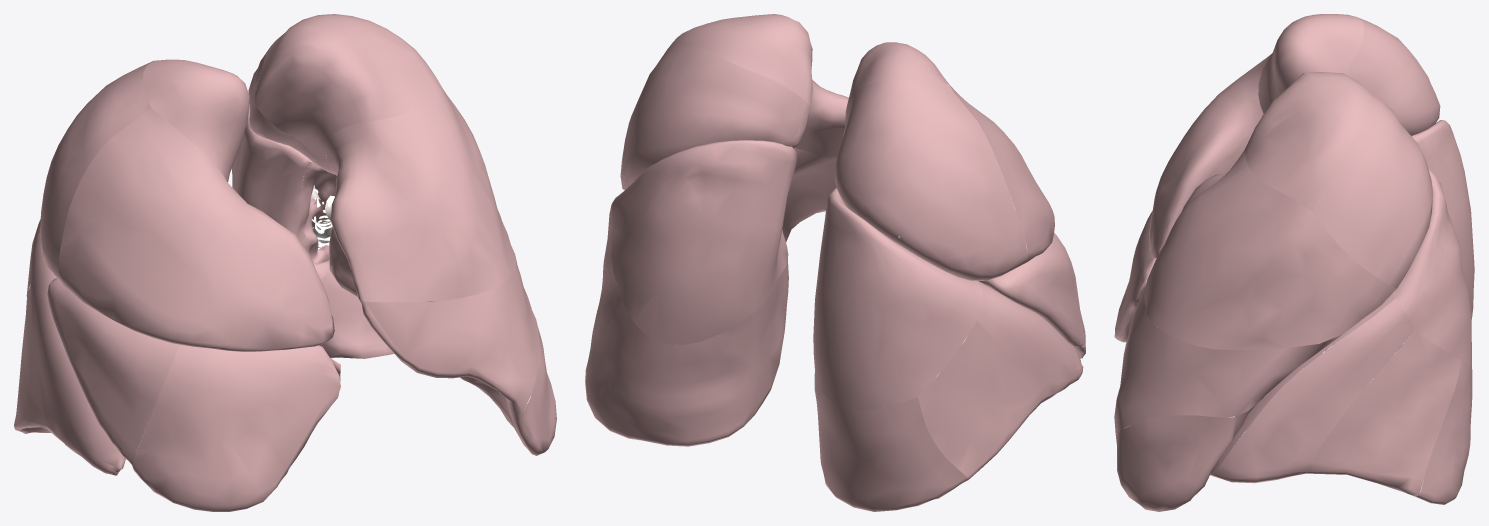
The model's file is hra-lung.lite.glb.
3 views of the same model, side by side, from view 1: azimuth 30°, elevation 25°; view 2: azimuth 150°, elevation 25°; view 3: azimuth 270°, elevation 25° (orthographic). The views are drawn at different scales.
Visible parts, largest first — view 1: VH_M_right_anterior_bronchopulmonary_segment, VH_M_left_anterior_bronchopulmonary_segment, VH_M_right_medial_bronchopulmonary_segment, VH_M_left_apical_bronchopulmonary_segment, VH_M_left_lingula_superior_bronchopulmonary_segment, VH_M_right_lateral_bronchopulmonary_segment, VH_M_right_apical_bronchopulmonary_segment, VH_M_right_posterior_bronchopulmonary_segment, VH_M_right_anterior_basal_bronchopulmonary_segment, VH_M_left_superior_bronchopulmonary_segment, VH_M_left_lingula_inferior_bronchopulmonary_segment, VH_M_left_medial_basal_bronchopulmonary_segment (+5 smaller); view 2: VH_M_left_superior_bronchopulmonary_segment, VH_M_right_posterior_bronchopulmonary_segment, VH_M_right_superior_bronchopulmonary_segment, VH_M_left_posetrior_basal_bronchopulmonary_segment, VH_M_left_posterior_bronchopulmonary_segment, VH_M_right_posterior_basal_bronchopulmonary_segment, VH_M_right_lateral_basal_bronchopulmonary_segment, VH_M_left_apical_bronchopulmonary_segment, VH_M_right_anterior_basal_bronchopulmonary_segment, VH_M_right_lateral_bronchopulmonary_segment, VH_M_right_anterior_bronchopulmonary_segment, VH_M_left_lingula_superior_bronchopulmonary_segment (+3 smaller); view 3: VH_M_left_anterior_bronchopulmonary_segment, VH_M_left_lateral_basal_bronchopulmonary_segment, VH_M_left_posterior_bronchopulmonary_segment, VH_M_left_anterior_basal_bronchopulmonary_segment, VH_M_left_lingula_superior_bronchopulmonary_segment, VH_M_left_apical_bronchopulmonary_segment, VH_M_left_lingula_inferior_bronchopulmonary_segment, VH_M_right_anterior_bronchopulmonary_segment, VH_M_left_superior_bronchopulmonary_segment, VH_M_right_apical_bronchopulmonary_segment, VH_M_right_posterior_bronchopulmonary_segment, VH_M_left_posetrior_basal_bronchopulmonary_segment (+3 smaller).
Part boxes in pixels (x1=…): VH_M_right_anterior_bronchopulmonary_segment: x1=59, y1=108, x2=334, y2=351; VH_M_left_anterior_bronchopulmonary_segment: x1=325, y1=89, x2=516, y2=302; VH_M_right_medial_bronchopulmonary_segment: x1=132, y1=344, x2=340, y2=511; VH_M_left_apical_bronchopulmonary_segment: x1=254, y1=14, x2=442, y2=162; VH_M_left_lingula_superior_bronchopulmonary_segment: x1=359, y1=256, x2=538, y2=413; VH_M_right_lateral_bronchopulmonary_segment: x1=47, y1=278, x2=179, y2=465; VH_M_right_apical_bronchopulmonary_segment: x1=143, y1=59, x2=249, y2=182; VH_M_right_posterior_bronchopulmonary_segment: x1=40, y1=61, x2=152, y2=284; VH_M_right_anterior_basal_bronchopulmonary_segment: x1=31, y1=269, x2=125, y2=475; VH_M_left_superior_bronchopulmonary_segment: x1=232, y1=104, x2=326, y2=237; VH_M_left_lingula_inferior_bronchopulmonary_segment: x1=329, y1=245, x2=556, y2=455; VH_M_left_medial_basal_bronchopulmonary_segment: x1=319, y1=271, x2=393, y2=358; VH_M_left_superior_bronchopulmonary_segment: x1=611, y1=140, x2=797, y2=344; VH_M_right_posterior_bronchopulmonary_segment: x1=834, y1=80, x2=1028, y2=280; VH_M_right_superior_bronchopulmonary_segment: x1=813, y1=187, x2=982, y2=410; VH_M_left_posetrior_basal_bronchopulmonary_segment: x1=585, y1=262, x2=788, y2=446; VH_M_left_posterior_bronchopulmonary_segment: x1=622, y1=41, x2=810, y2=186; VH_M_right_posterior_basal_bronchopulmonary_segment: x1=814, y1=371, x2=968, y2=511; VH_M_right_lateral_basal_bronchopulmonary_segment: x1=918, y1=321, x2=1040, y2=479; VH_M_left_apical_bronchopulmonary_segment: x1=668, y1=14, x2=812, y2=106; VH_M_right_anterior_basal_bronchopulmonary_segment: x1=976, y1=280, x2=1083, y2=402; VH_M_right_lateral_bronchopulmonary_segment: x1=978, y1=218, x2=1084, y2=348; VH_M_right_anterior_bronchopulmonary_segment: x1=949, y1=84, x2=1054, y2=261; VH_M_left_lingula_superior_bronchopulmonary_segment: x1=623, y1=148, x2=836, y2=239; VH_M_left_anterior_bronchopulmonary_segment: x1=1144, y1=149, x2=1396, y2=349; VH_M_left_lateral_basal_bronchopulmonary_segment: x1=1306, y1=328, x2=1460, y2=496; VH_M_left_posterior_bronchopulmonary_segment: x1=1313, y1=102, x2=1432, y2=288; VH_M_left_anterior_basal_bronchopulmonary_segment: x1=1210, y1=298, x2=1415, y2=483; VH_M_left_lingula_superior_bronchopulmonary_segment: x1=1114, y1=283, x2=1391, y2=434; VH_M_left_apical_bronchopulmonary_segment: x1=1245, y1=72, x2=1383, y2=211; VH_M_left_lingula_inferior_bronchopulmonary_segment: x1=1115, y1=403, x2=1257, y2=511; VH_M_right_anterior_bronchopulmonary_segment: x1=1149, y1=53, x2=1272, y2=258; VH_M_left_superior_bronchopulmonary_segment: x1=1393, y1=168, x2=1471, y2=366; VH_M_right_apical_bronchopulmonary_segment: x1=1258, y1=14, x2=1364, y2=113; VH_M_right_posterior_bronchopulmonary_segment: x1=1345, y1=17, x2=1440, y2=135; VH_M_left_posetrior_basal_bronchopulmonary_segment: x1=1416, y1=361, x2=1472, y2=504.
Size of the model in its own units: 0.2594 by 0.2291 by 0.1897.
